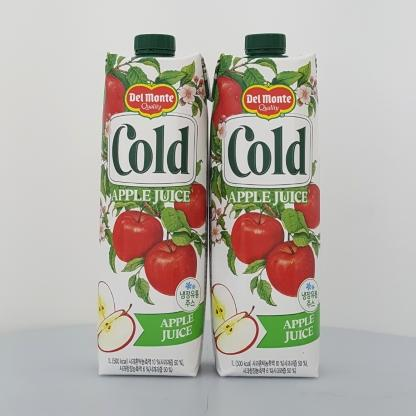------------: (97, 34, 211, 377), (208, 33, 320, 377)
